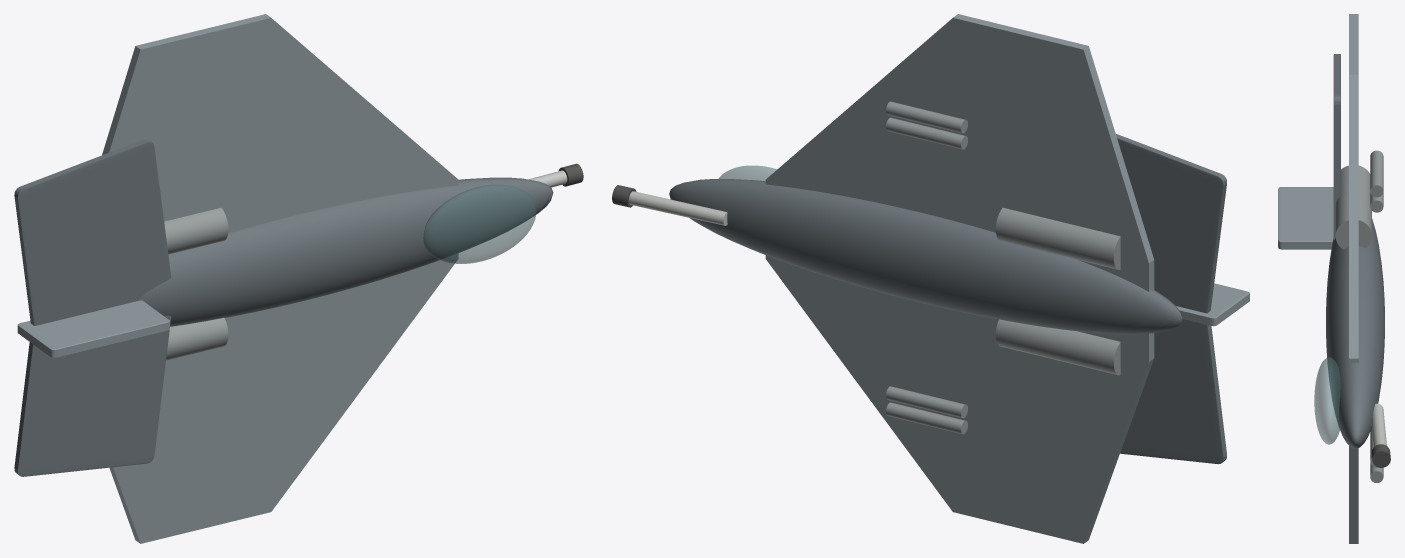
Rendered from s-u26-specter-bomber-lod1.glb.
3 renders of one model, left to right at view 1: azimuth 30°, elevation 25°; view 2: azimuth 150°, elevation 25°; view 3: azimuth 270°, elevation 25°, orthographic. The views are drawn at different scales.
Parts seen in each view (by area): view 1: combat_main_wing, combat_fuselage, combat_tailplane_1, combat_tailplane_-1, combat_canopy, combat_fin_0, combat_engine_1, combat_engine_0; view 2: combat_main_wing, combat_fuselage, combat_tailplane_1, combat_tailplane_-1, combat_engine_1, combat_engine_0, combat_fin_0, combat_gun_barrel_0, combat_-1_tube_2, combat_1_tube_1, combat_-1_tube_1, combat_1_tube_2; view 3: combat_fuselage, combat_main_wing, combat_fin_0, combat_engine_1, combat_canopy, combat_tailplane_1, combat_1_tube_2, combat_gun_barrel_0, combat_gun_muzzle_0, combat_1_tube_1, combat_-1_tube_1.
Part boxes in pixels (<box>): combat_main_wing: <box>102,14,458,543</box>; combat_fuselage: <box>137,177,553,326</box>; combat_tailplane_1: <box>14,139,171,325</box>; combat_tailplane_-1: <box>14,315,171,476</box>; combat_canopy: <box>423,184,536,263</box>; combat_fin_0: <box>17,300,169,357</box>; combat_engine_1: <box>164,207,228,254</box>; combat_engine_0: <box>166,318,228,360</box>; combat_main_wing: <box>765,14,1154,543</box>; combat_fuselage: <box>669,179,1182,334</box>; combat_tailplane_1: <box>1116,134,1226,313</box>; combat_tailplane_-1: <box>1120,319,1226,464</box>; combat_engine_1: <box>995,207,1120,269</box>; combat_engine_0: <box>995,319,1120,375</box>; combat_fin_0: <box>1176,283,1249,326</box>; combat_gun_barrel_0: <box>628,191,727,225</box>; combat_-1_tube_2: <box>886,386,967,418</box>; combat_1_tube_1: <box>886,117,967,149</box>; combat_-1_tube_1: <box>886,402,967,434</box>; combat_1_tube_2: <box>886,101,967,133</box>; combat_fuselage: <box>1326,218,1384,448</box>; combat_main_wing: <box>1349,14,1358,543</box>; combat_fin_0: <box>1278,187,1333,249</box>; combat_engine_1: <box>1335,165,1371,249</box>; combat_canopy: <box>1314,357,1340,444</box>; combat_tailplane_1: <box>1333,54,1340,240</box>; combat_1_tube_2: <box>1370,150,1383,197</box>; combat_gun_barrel_0: <box>1371,403,1386,446</box>; combat_gun_muzzle_0: <box>1371,444,1390,467</box>; combat_1_tube_1: <box>1370,192,1383,212</box>; combat_-1_tube_1: <box>1370,463,1383,482</box>.
Size of what is drawn, in the model's own units: 15.96 by 12.87 by 2.8.
